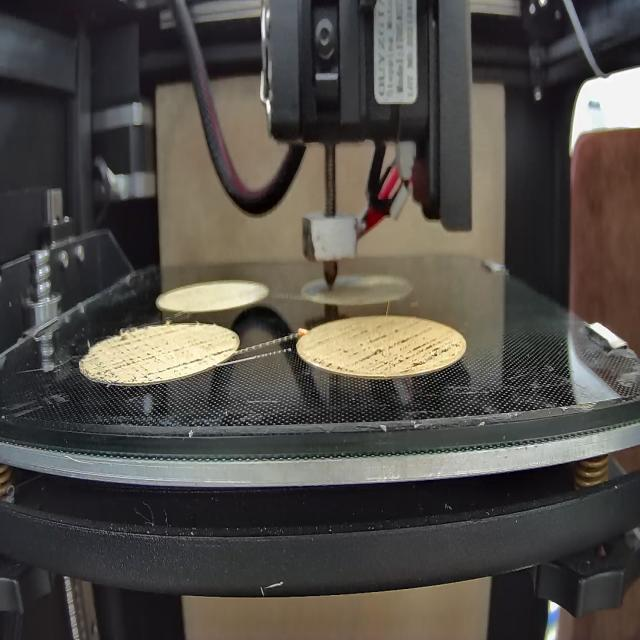under_extrusion: (314, 325, 463, 373), (90, 327, 235, 374)
